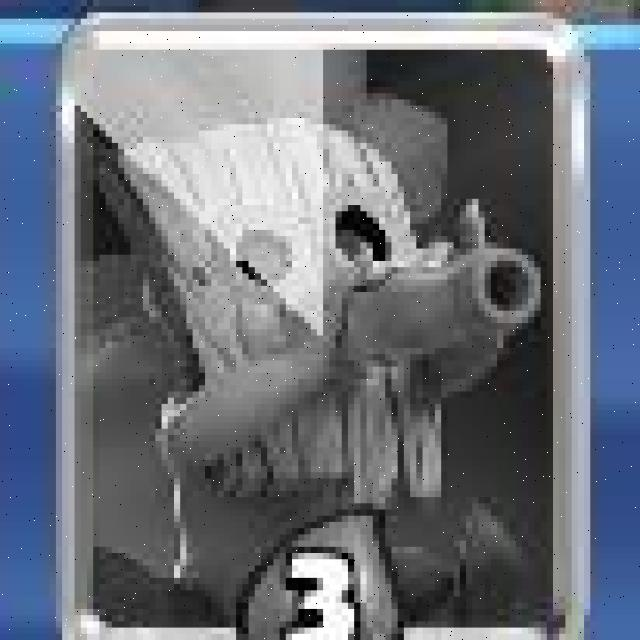Dart_Goblin: (52, 10, 594, 640)
